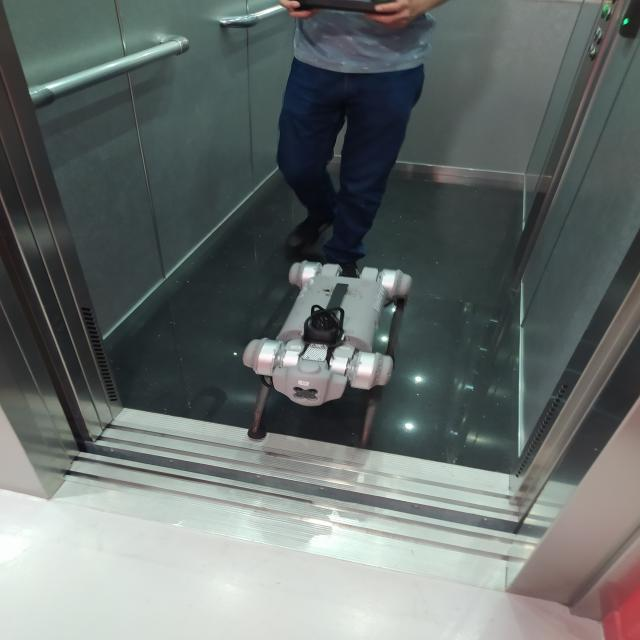unitree-go1-robot: (231, 249, 407, 455)
